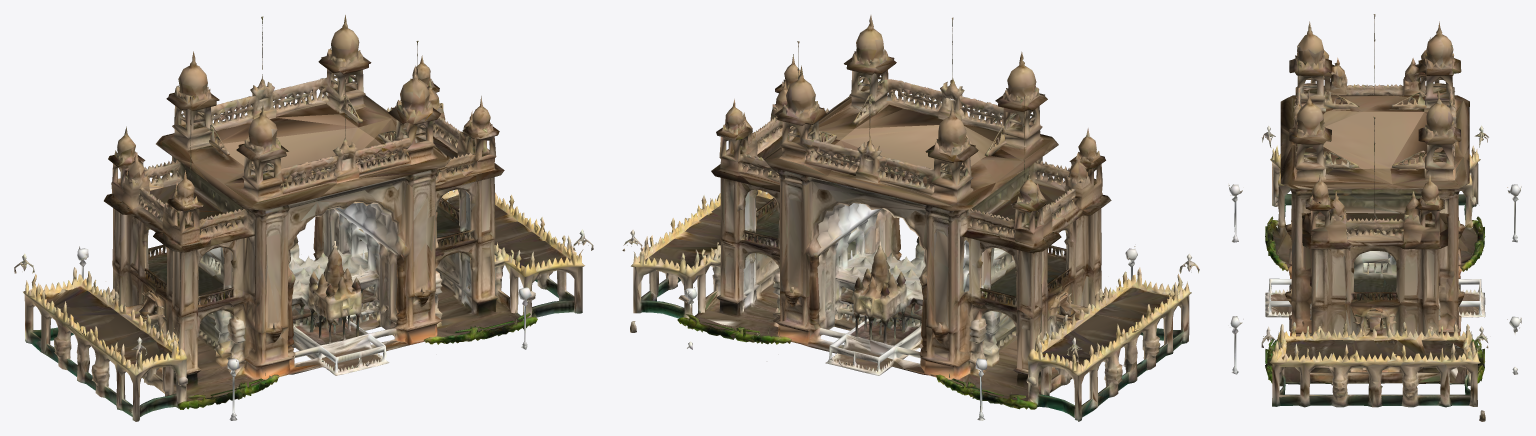
Rendered from Gateway_of_the_Rajput.glb.
3 renders of one model, left to right at view 1: azimuth 30°, elevation 25°; view 2: azimuth 150°, elevation 25°; view 3: azimuth 270°, elevation 25°, orthographic. The views are drawn at different scales.
Parts seen in each view (by area): view 1: Gateway_of_the_Rajput; view 2: Gateway_of_the_Rajput; view 3: Gateway_of_the_Rajput.
Part boxes in pixels (left/top/right/bottom): Gateway_of_the_Rajput: left=14, top=15, right=593, bottom=421; Gateway_of_the_Rajput: left=622, top=15, right=1199, bottom=421; Gateway_of_the_Rajput: left=1228, top=14, right=1521, bottom=421.
Size of the model in its own units: 1.9 by 1.17 by 1.13.
1 material, 1 textured.
